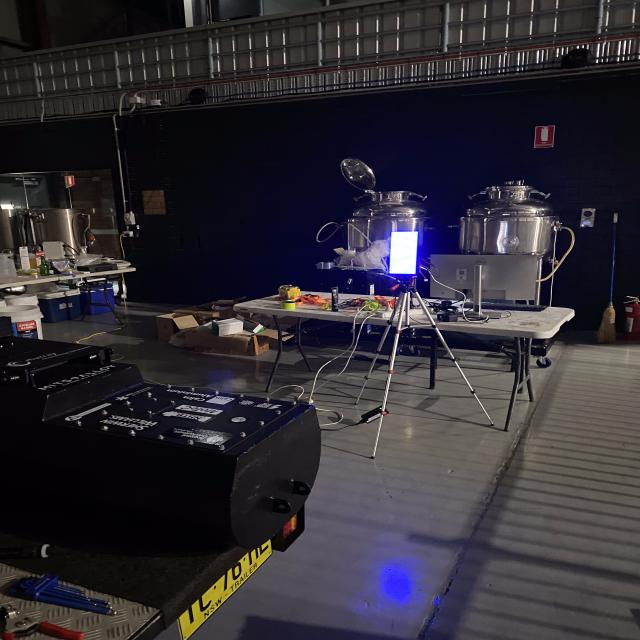matrix: (385, 225, 422, 278)
